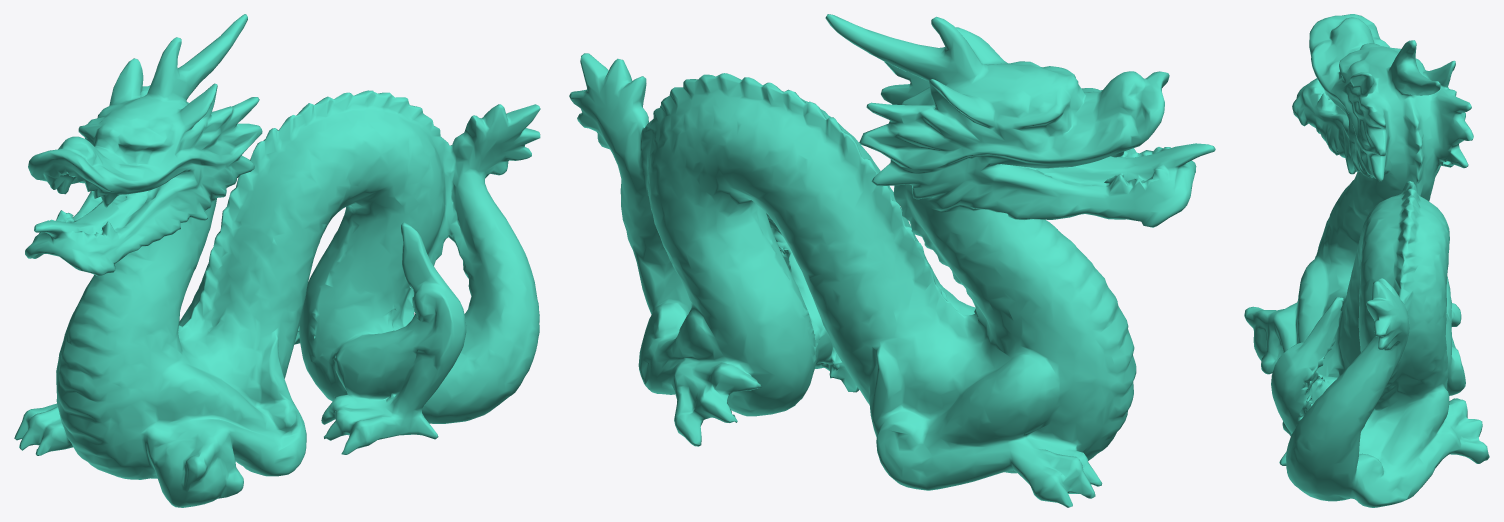
File: lowPolyDragon.obj
The picture shows the model from 3 angles, left to right: view 1: azimuth 30°, elevation 25°; view 2: azimuth 150°, elevation 25°; view 3: azimuth 270°, elevation 25°; orthographic projection. The views are drawn at different scales.
Visible parts, largest first — view 1: dragon:default1; view 2: dragon:default1; view 3: dragon:default1.
Part boxes in pixels (x1=…): dragon:default1: x1=14, y1=14, x2=540, y2=507; dragon:default1: x1=569, y1=14, x2=1215, y2=507; dragon:default1: x1=1244, y1=14, x2=1489, y2=507.
Size of the model in its own units: 14.09 by 9.94 by 6.3.
